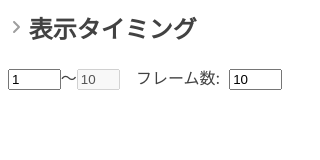
Test: Header icon › if Start is invalid, then show Icon
The width and height of the screenshot is (320, 160).
Replace the text in the number field with test id "timing-start" with "a". click: (34, 79)
box: [8,69,61,90]
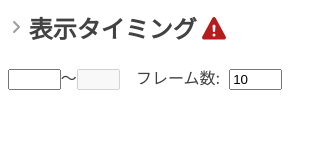
expect the picture with test id "config-header-icon-error" is shown: met, box [202,17,226,41]
